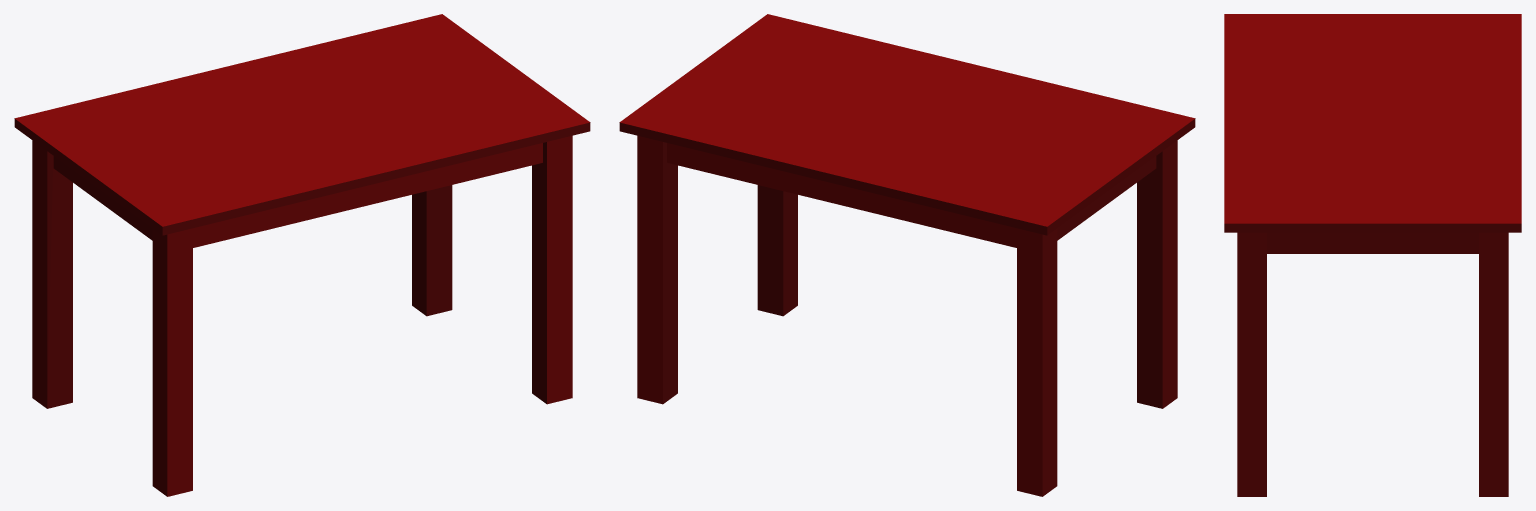
File: WoodenTable.glb
3 views of the same model, side by side, from view 1: azimuth 30°, elevation 25°; view 2: azimuth 150°, elevation 25°; view 3: azimuth 270°, elevation 25° (orthographic).
Visible parts, largest first — view 1: WoodenTable; view 2: WoodenTable; view 3: WoodenTable.
Boxes of the visible parts, <box> form: WoodenTable: <box>14,14,590,496</box>; WoodenTable: <box>619,14,1195,496</box>; WoodenTable: <box>1224,14,1521,496</box>.
Bounding box in the file's own units: 7.5 × 4.65 × 4.5.
